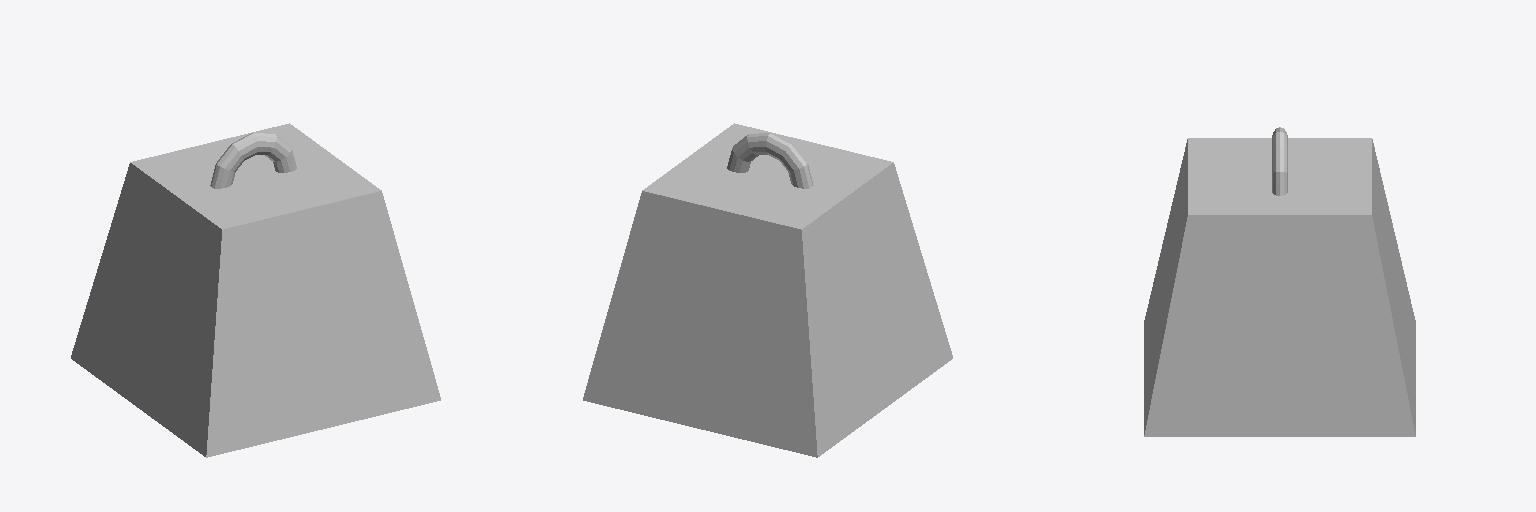
The model's file is Weight.obj.
3 renders of one model, left to right at view 1: azimuth 30°, elevation 25°; view 2: azimuth 150°, elevation 25°; view 3: azimuth 270°, elevation 25°, orthographic.
Visible parts, largest first — view 1: Box001; view 2: Box001; view 3: Box001.
Boxes of the visible parts, x1=… form: Box001: x1=71, y1=123, x2=440, y2=457; Box001: x1=583, y1=123, x2=952, y2=457; Box001: x1=1144, y1=127, x2=1415, y2=436.
Bounding box in the file's own units: 2.64 × 2.64 × 2.64.